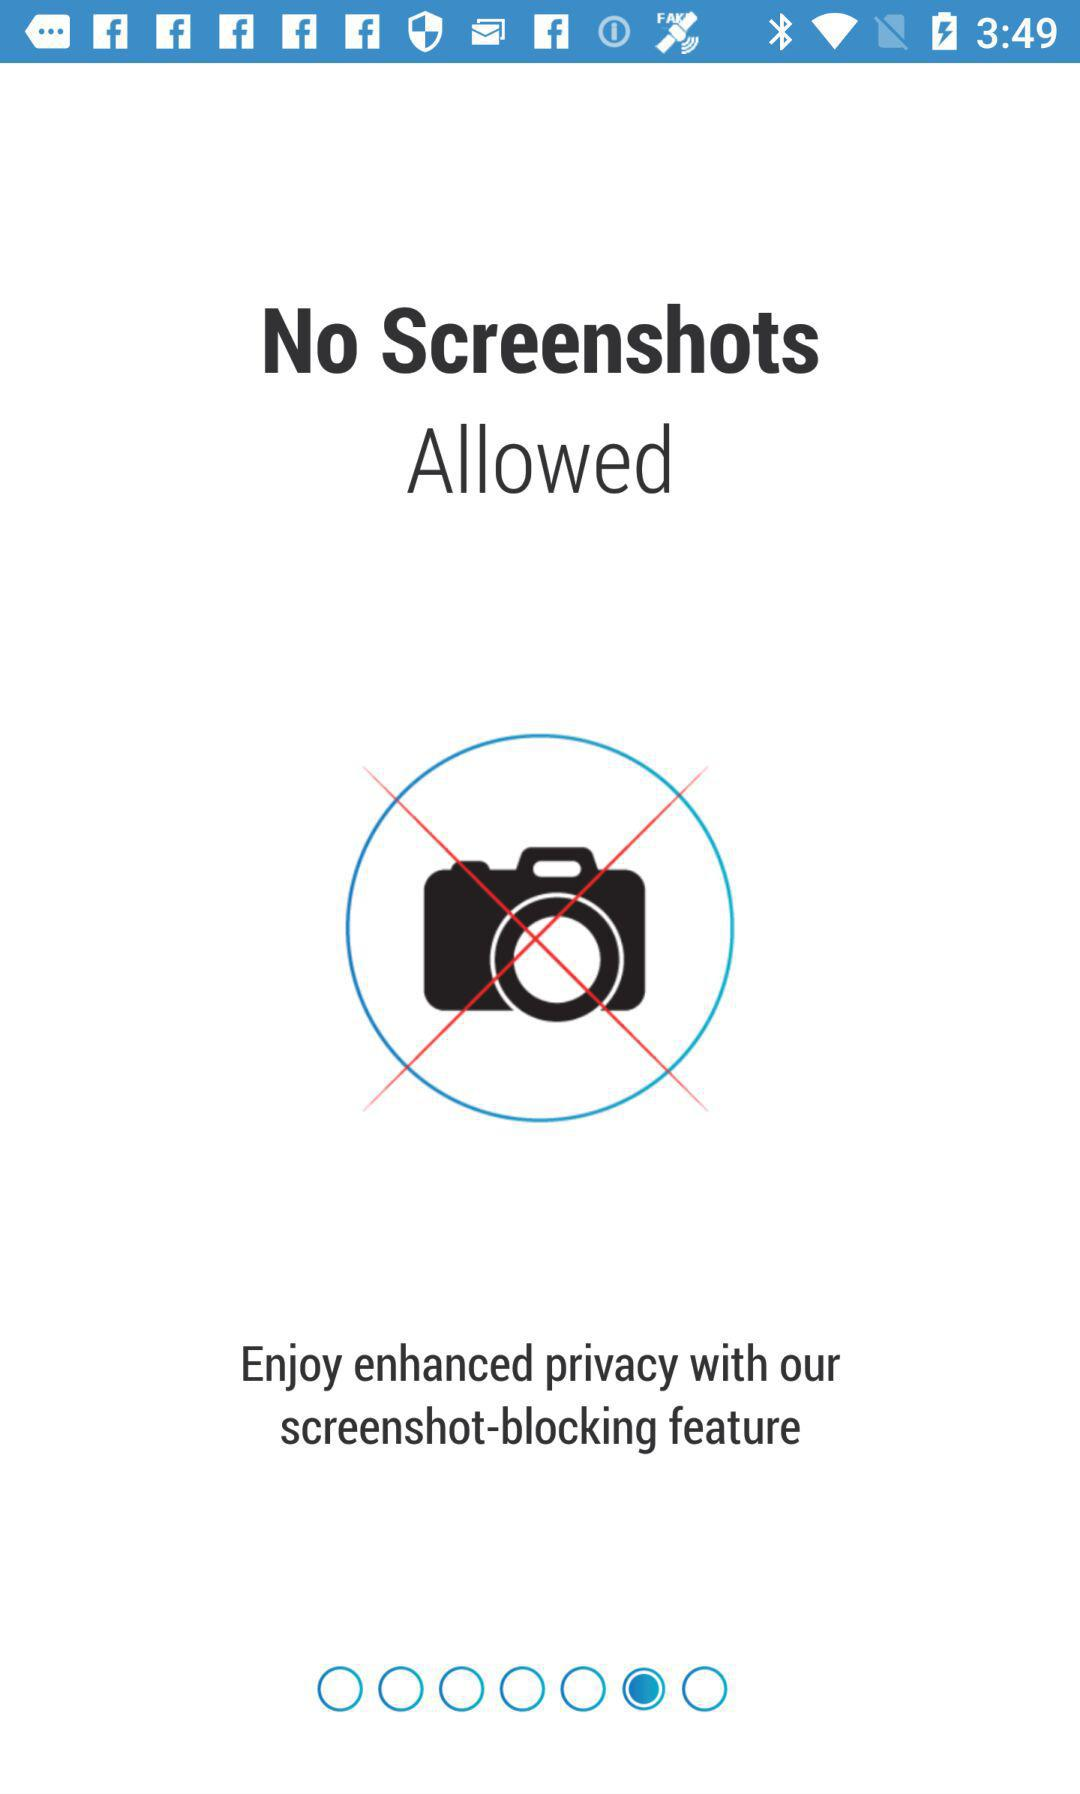Image: (345, 733, 735, 1124)
PageIndicator: (316, 1665, 729, 1713)
Text: (243, 1342, 840, 1454), (265, 302, 819, 375), (407, 423, 671, 495)
UpperTaskBar: (1, 1, 1080, 64)
